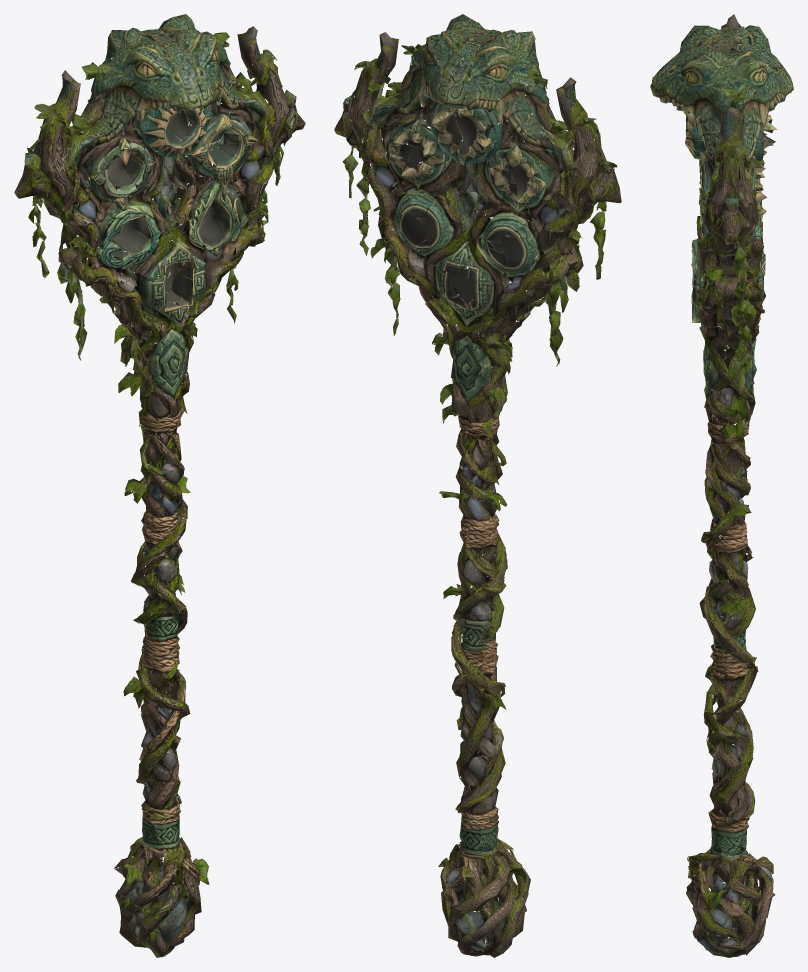
The model's file is sceptre.glb.
3 renders of one model, left to right at view 1: azimuth 30°, elevation 25°; view 2: azimuth 150°, elevation 25°; view 3: azimuth 270°, elevation 25°, orthographic.
Visible parts, largest first — view 1: Mesh_0; view 2: Mesh_0; view 3: Mesh_0.
Part boxes in pixels (<box>): Mesh_0: <box>14,14,305,957</box>; Mesh_0: <box>334,14,621,957</box>; Mesh_0: <box>650,14,793,957</box>.
Size of the model in its own units: 0.6237 by 1.9 by 0.2706.
1 material, 1 textured.
